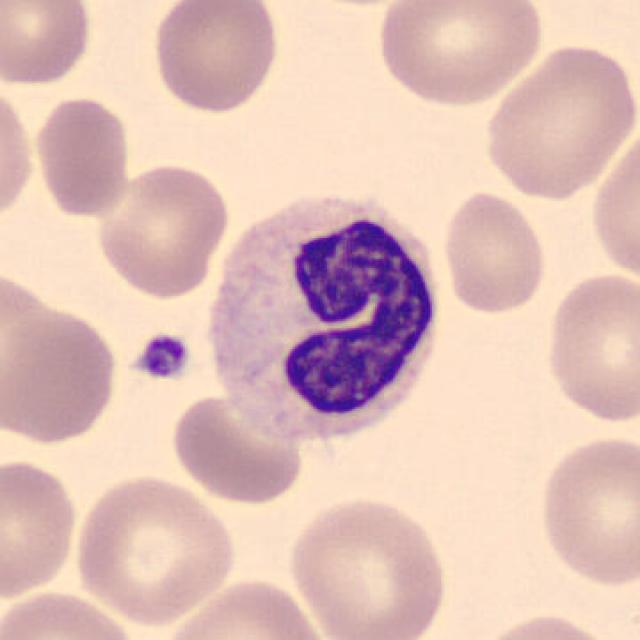Neutrophil: (199, 184, 450, 458)
Platelets: (130, 330, 194, 384)
RBC: (69, 469, 240, 626), (478, 37, 636, 203), (283, 490, 453, 640), (91, 158, 233, 300), (373, 0, 547, 109), (2, 303, 122, 448), (534, 428, 638, 590), (167, 388, 309, 506), (540, 266, 638, 427), (147, 0, 282, 116), (437, 187, 551, 317), (30, 92, 135, 222), (0, 453, 82, 603), (158, 573, 332, 640), (0, 0, 96, 88), (587, 122, 638, 287), (0, 585, 142, 640), (0, 77, 37, 229), (468, 610, 626, 640)
